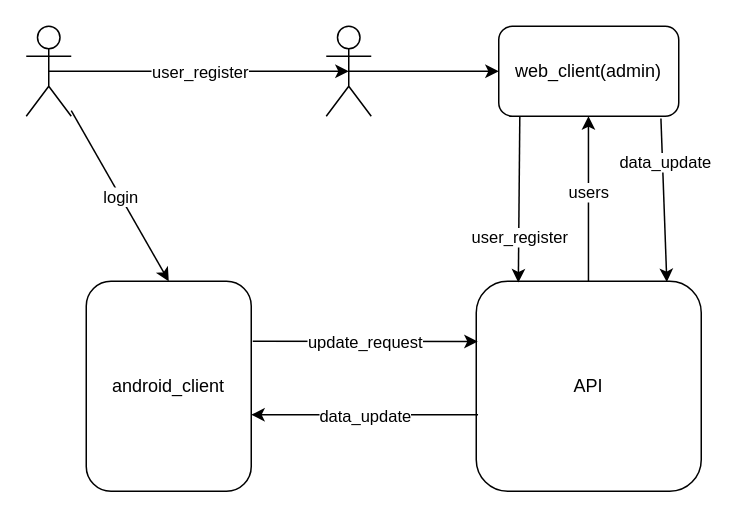
Some shapes in this 737 by 518 pixel diagram are drawn without their labels. The shapes that lost their labels are listed below. From the top down, each one's box as (x1, y1, x2, y2) in pixels, then its label:
(25, 25, 71, 116): user
(325, 25, 371, 116): 'Admin'
